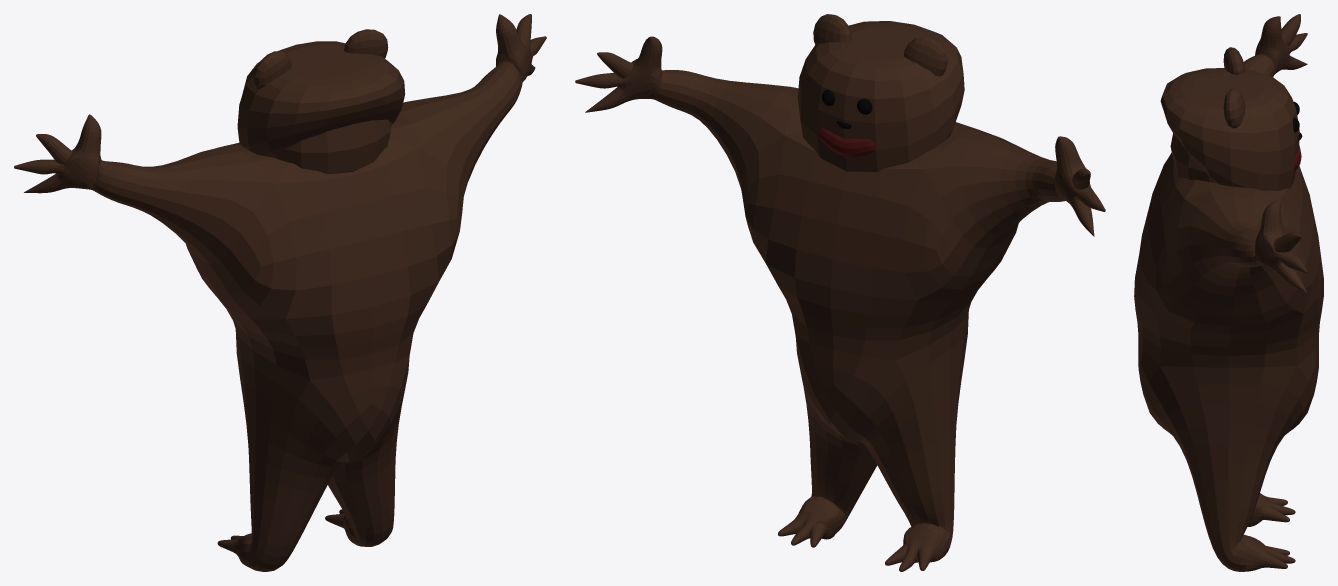
File: bear template.fbx
3 views of the same model, side by side, from view 1: azimuth 30°, elevation 25°; view 2: azimuth 150°, elevation 25°; view 3: azimuth 270°, elevation 25° (orthographic). The views are drawn at different scales.
Visible parts, largest first — view 1: body, neck, ears; view 2: body, ears, mouth; view 3: body, ears, neck.
Boxes of the visible parts, x1,y1,x2,y2 form: body: (14,14,546,571); neck: (275,119,391,173); ears: (253,29,388,89); body: (575,21,1105,571); ears: (813,14,947,76); mouth: (818,128,875,157); body: (1134,14,1323,571); ears: (1223,47,1245,128); neck: (1170,133,1214,182).
Bounding box in the file's own units: 745 × 694 × 250.
